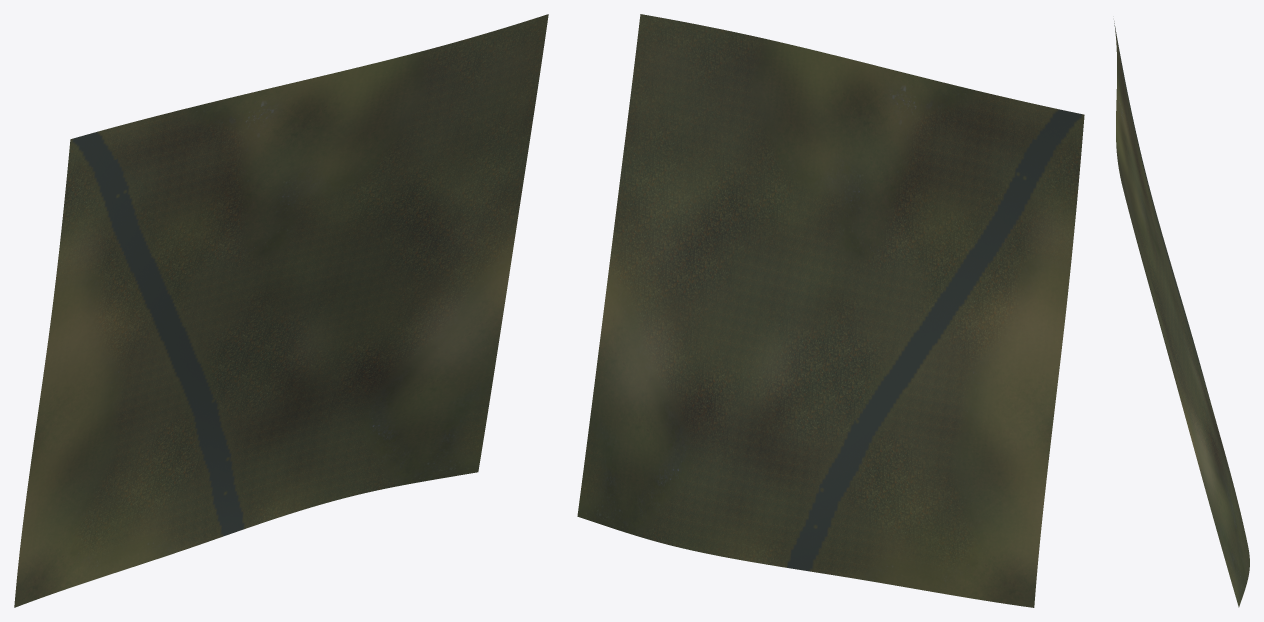
File: ground_core_03_02.obj
The picture shows the model from 3 angles, left to right: view 1: azimuth 30°, elevation 25°; view 2: azimuth 150°, elevation 25°; view 3: azimuth 270°, elevation 25°; orthographic projection. The views are drawn at different scales.
Parts seen in each view (by area): view 1: ground_core_03_02; view 2: ground_core_03_02; view 3: ground_core_03_02.
Part boxes in pixels (left/top/right/bottom): ground_core_03_02: left=14, top=14, right=548, bottom=607; ground_core_03_02: left=577, top=14, right=1084, bottom=607; ground_core_03_02: left=1114, top=21, right=1249, bottom=607.
Size of the model in its own units: 50 by 50 by 15.32.
1 material, 1 textured.
